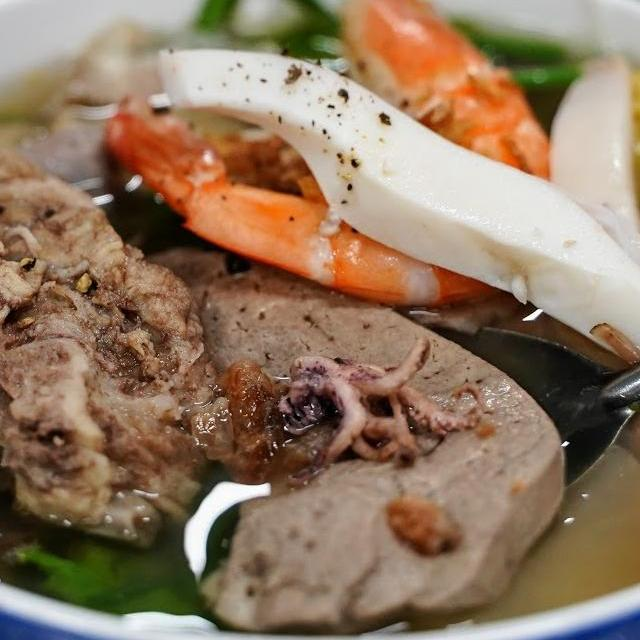gan: (175, 241, 581, 636)
muc: (148, 36, 640, 375), (535, 36, 640, 302)
thit heo: (0, 166, 239, 554)
tom: (90, 0, 564, 319)
